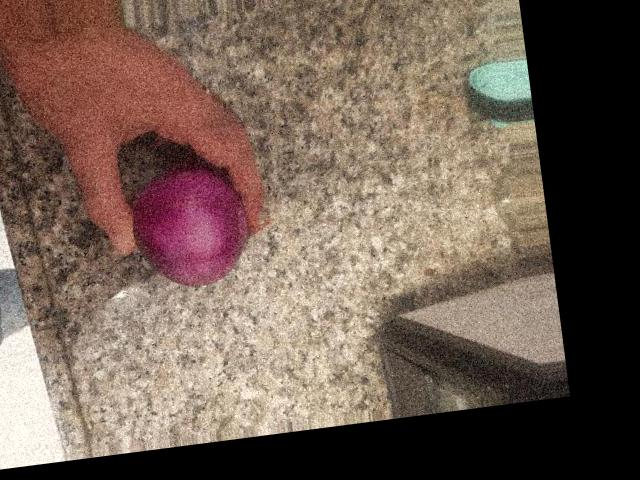onion: (126, 167, 264, 292)
